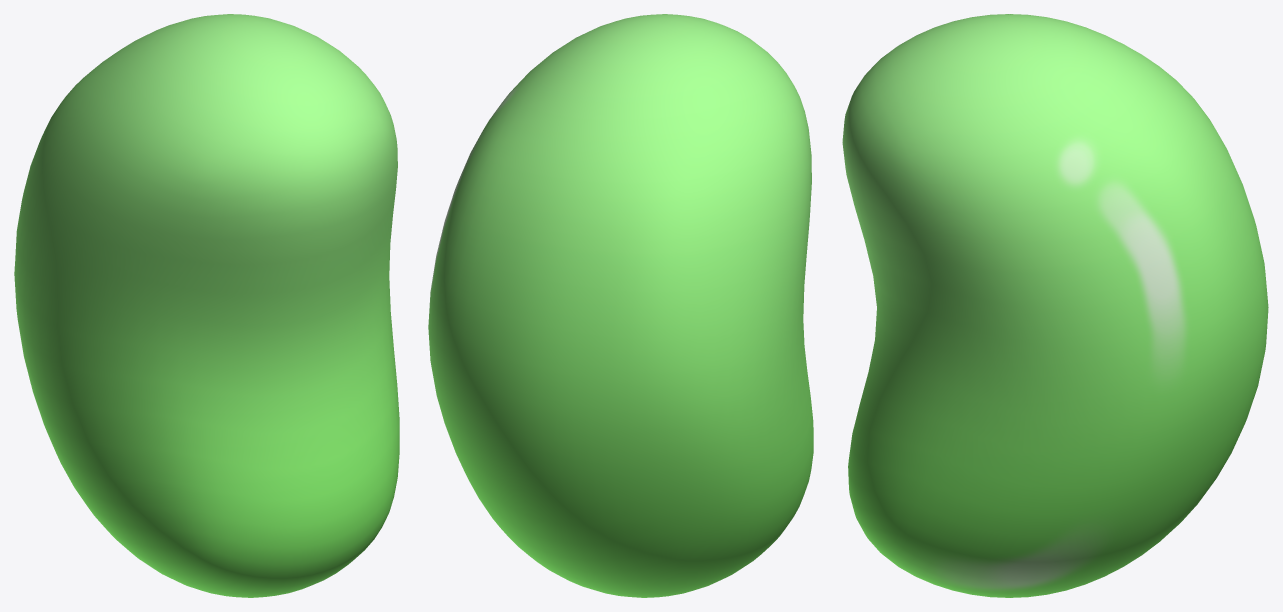
File: JellyBean_Green.fbx
The picture shows the model from 3 angles, left to right: view 1: azimuth 30°, elevation 25°; view 2: azimuth 150°, elevation 25°; view 3: azimuth 270°, elevation 25°; orthographic projection.
Visible parts, largest first — view 1: JellyBean; view 2: JellyBean; view 3: JellyBean.
Boxes of the visible parts, <box> form: JellyBean: <box>14,14,399,597</box>; JellyBean: <box>428,14,813,597</box>; JellyBean: <box>842,14,1268,597</box>.
Size of the model in its own units: 56.01 by 91.46 by 63.72.
Materials: 1 (1 with a texture image).
